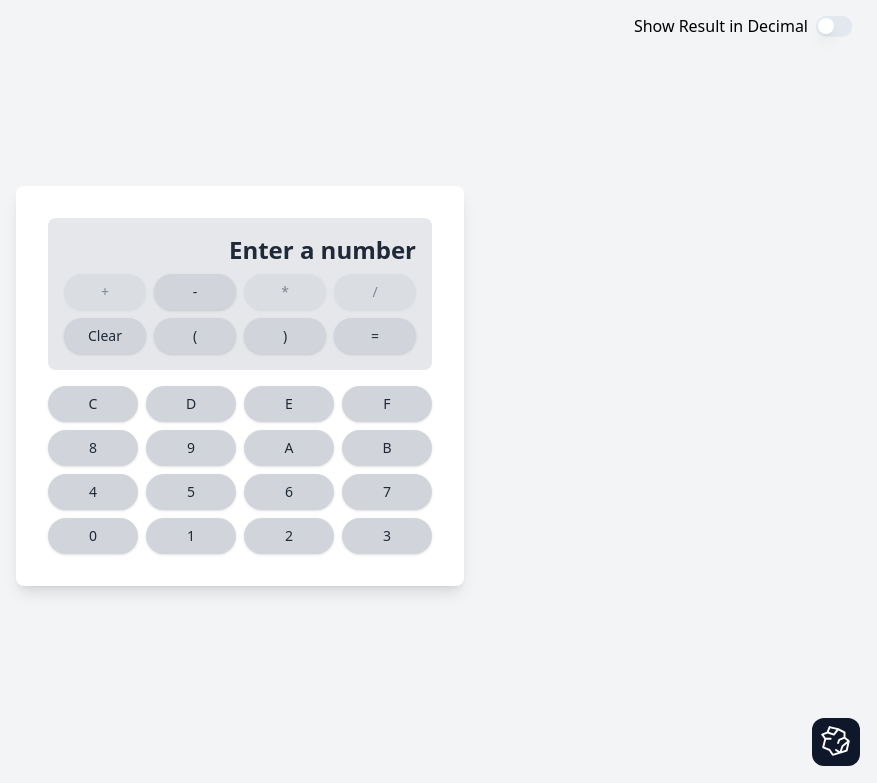
Test: Page › click 3 buttons and see if the corresponding numbers apprears in the entry area
Click the button "A".
click(289, 448)  # box [244,430,334,466]
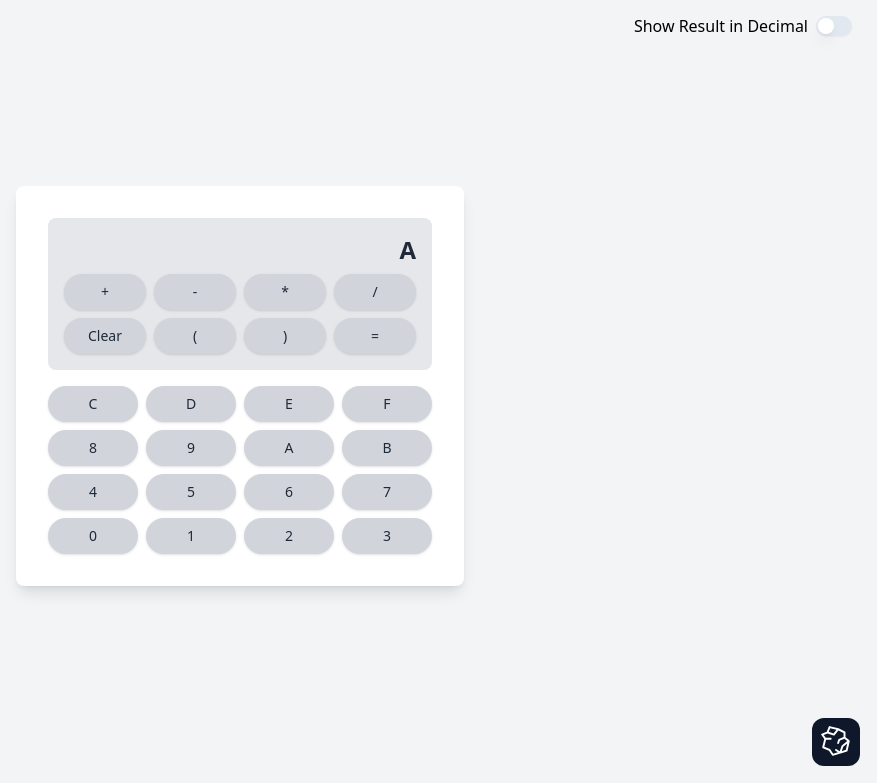
Click the button with test id "key-1".
click(191, 536)  # box [146,518,236,554]
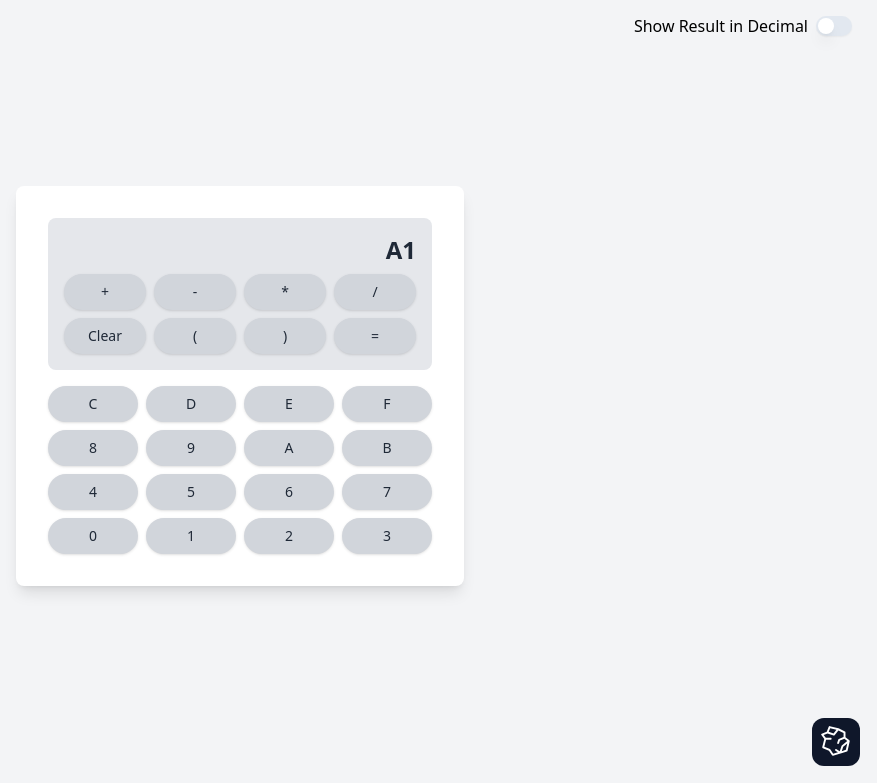
Click the button "C".
click(93, 404)  # box [48,386,138,422]
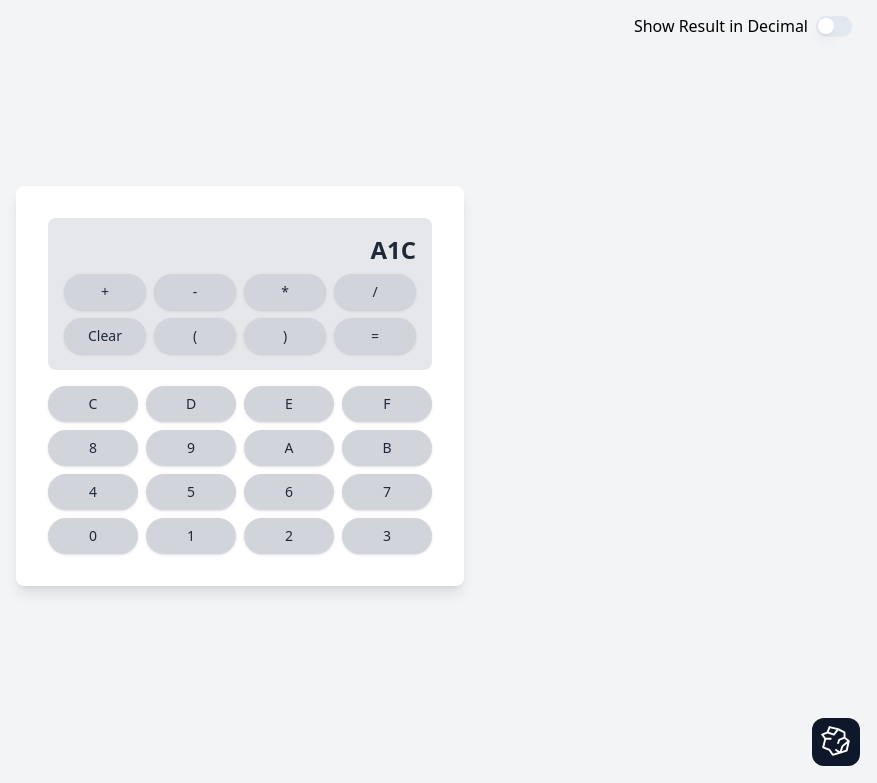
Check: the text with test id "entryArea" reads "A1C", box [370,233,416,266]
